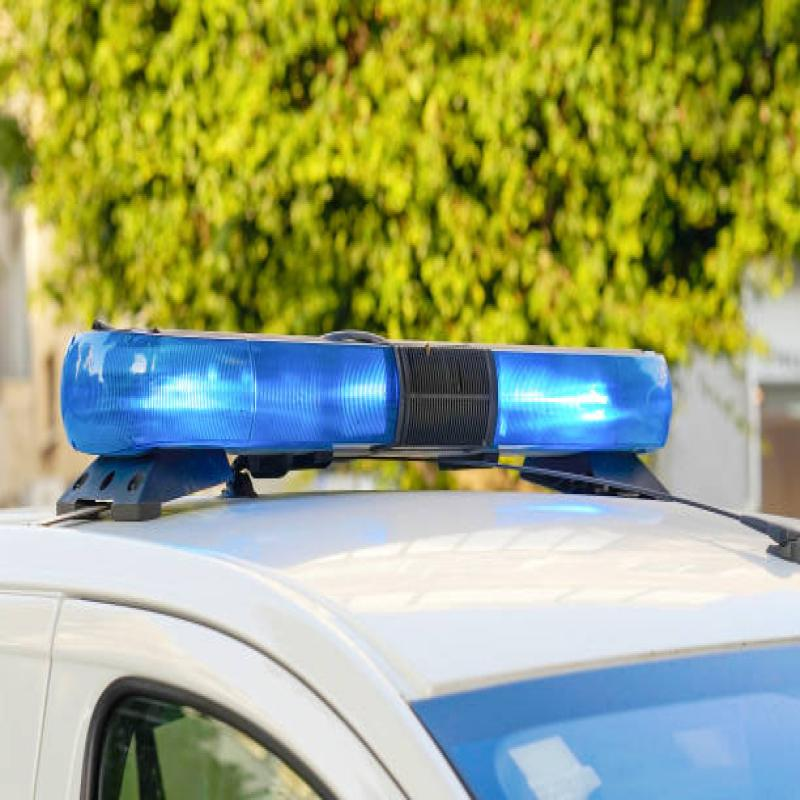AmbulanceSiren: (41, 279, 688, 477)
